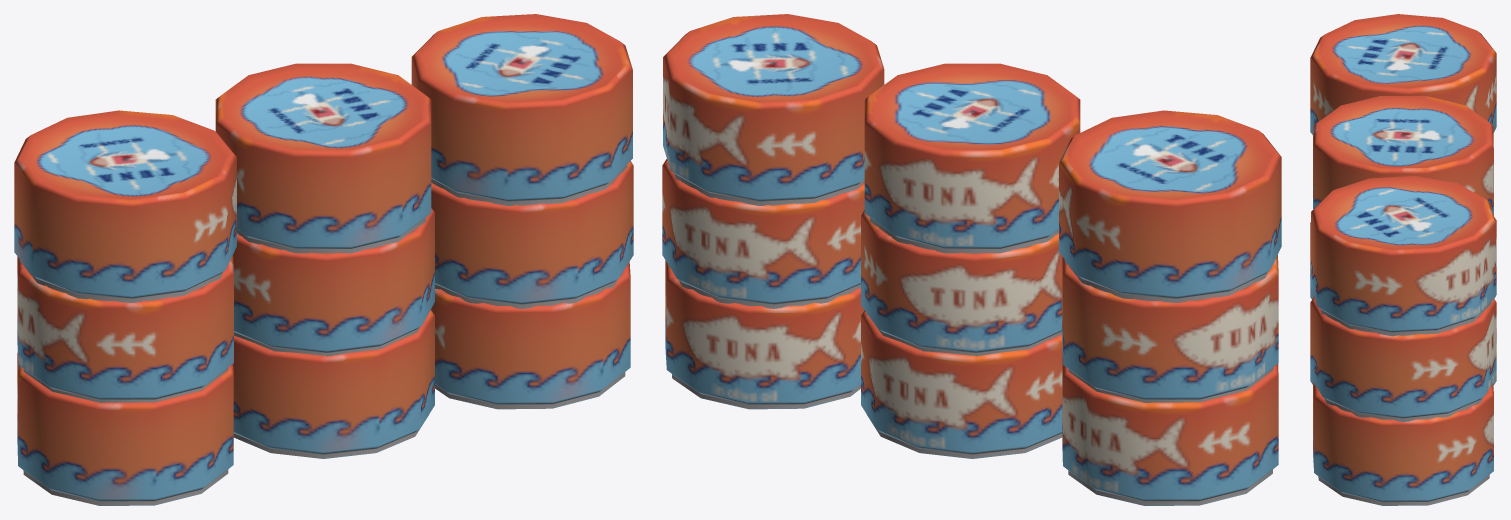
The model's file is tuna.fbx.
The picture shows the model from 3 angles, left to right: view 1: azimuth 30°, elevation 25°; view 2: azimuth 150°, elevation 25°; view 3: azimuth 270°, elevation 25°; orthographic projection. The views are drawn at different scales.
Parts seen in each view (by area): view 1: tuna; view 2: tuna; view 3: tuna.
Part boxes in pixels (box(x1,y1,x2,y2)): tuna: box(14, 14, 633, 505); tuna: box(662, 14, 1281, 505); tuna: box(1310, 14, 1496, 505).
Size of the model in its own units: 44.64 by 22.23 by 14.63.
1 material, 1 textured.
